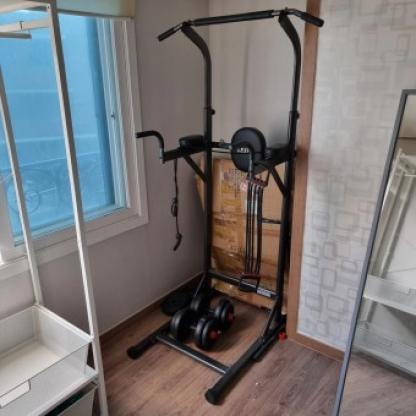chinning dipping: (135, 8, 324, 408)
